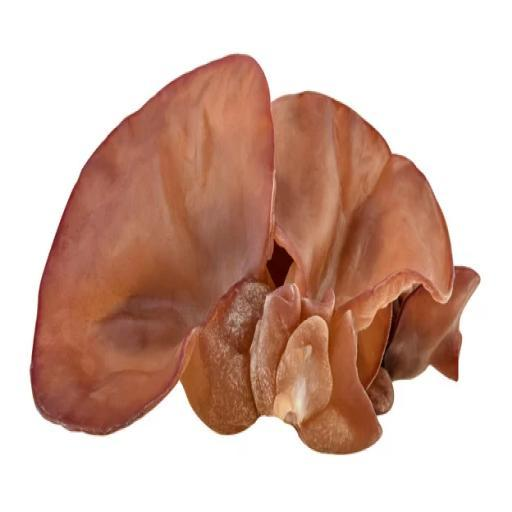mushroom: (24, 42, 277, 433), (247, 78, 456, 482), (378, 233, 473, 388)
